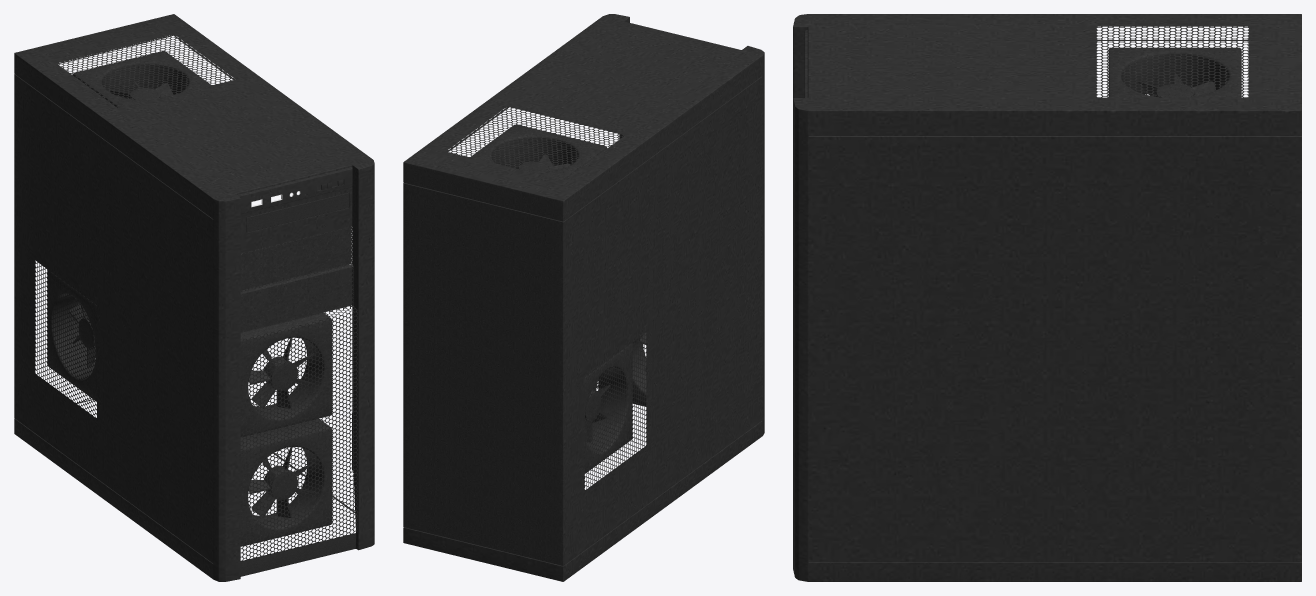
Rendered from storage.glb.
3 renders of one model, left to right at view 1: azimuth 30°, elevation 25°; view 2: azimuth 150°, elevation 25°; view 3: azimuth 270°, elevation 25°, orthographic. The views are drawn at different scales.
Parts seen in each view (by area): view 1: Object001; view 2: Object001; view 3: Object001.
Boxes of the visible parts, x1,y1,x2,y2 form: Object001: (14, 14, 374, 581); Object001: (403, 14, 764, 581); Object001: (793, 14, 1301, 581).
Bounding box in the file's own units: 53.17 × 121 × 118.
1 material, 1 textured.
